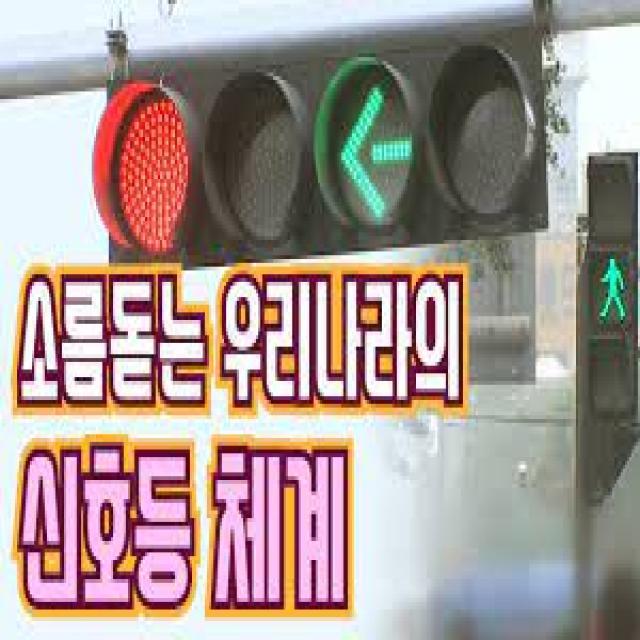Red Light: (89, 70, 198, 260)
